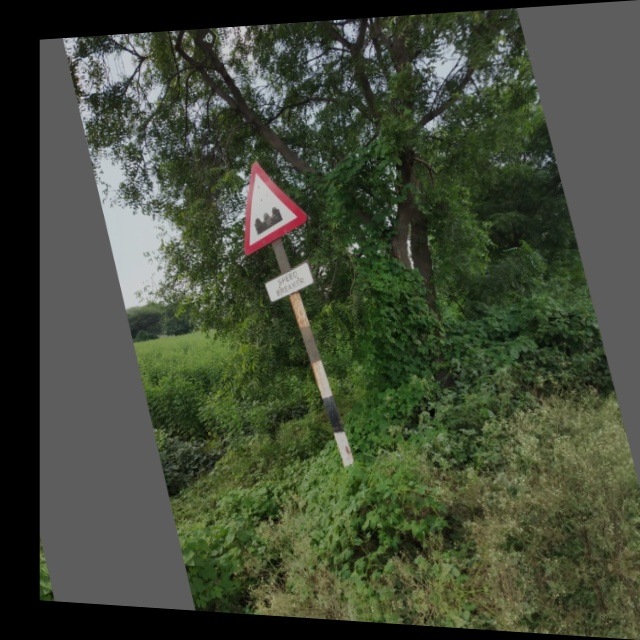Hump_or_Rough_Road: (222, 148, 315, 254)
